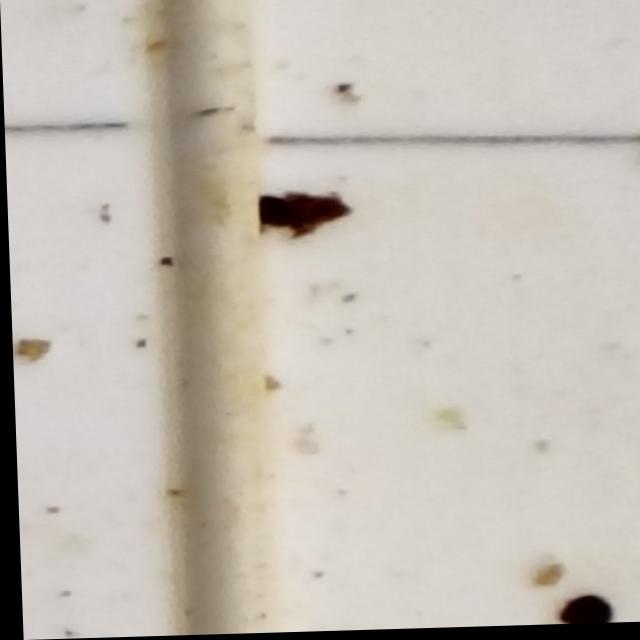varroa: (553, 596, 610, 628)
